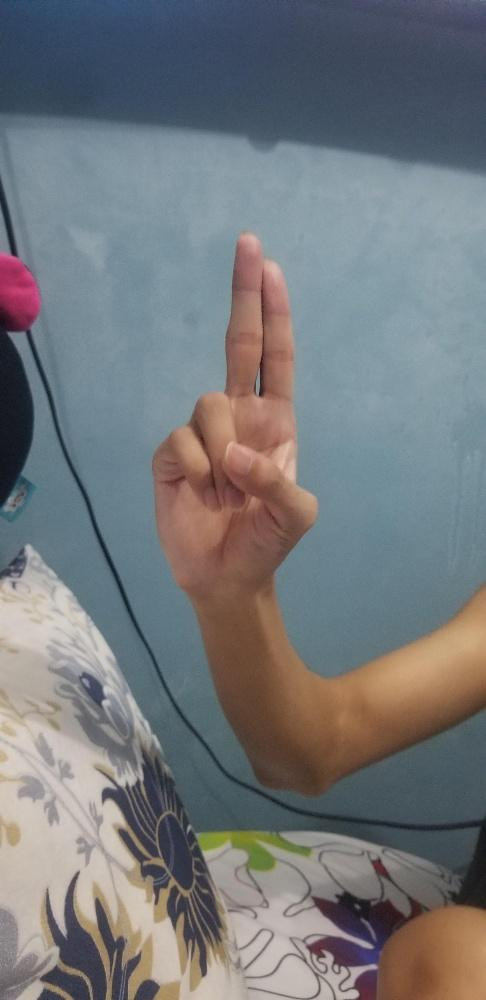u: (149, 228, 321, 596)
